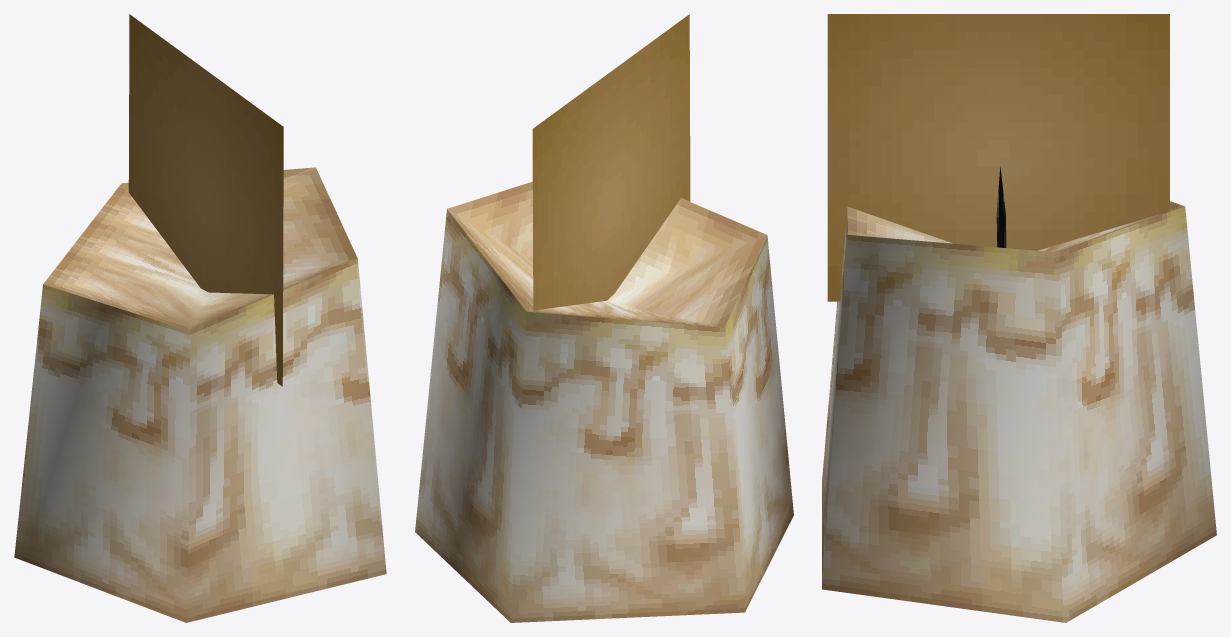
File: candle02.obj
3 renders of one model, left to right at view 1: azimuth 30°, elevation 25°; view 2: azimuth 150°, elevation 25°; view 3: azimuth 270°, elevation 25°, orthographic. The views are drawn at different scales.
Parts seen in each view (by area): view 1: Geoset0, Geoset2; view 2: Geoset0, Geoset2; view 3: Geoset0, Geoset2, Geoset1.
Part boxes in pixels (<box>): Geoset0: <box>14,167,386,622</box>; Geoset2: <box>128,14,283,386</box>; Geoset0: <box>415,181,793,622</box>; Geoset2: <box>532,14,690,310</box>; Geoset0: <box>822,201,1216,622</box>; Geoset2: <box>827,14,1169,301</box>; Geoset1: <box>996,167,1006,247</box>.
Size of the model in its own units: 0.4599 by 0.6369 by 0.4374.
3 materials, 3 textured.
